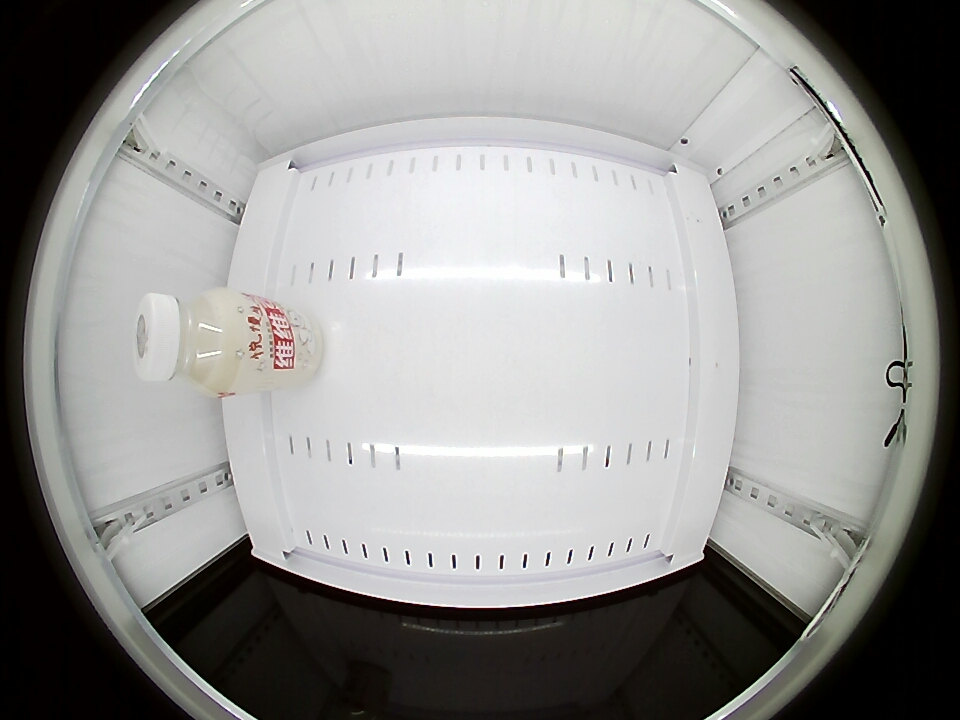weiweidounai: (133, 288, 250, 396)
